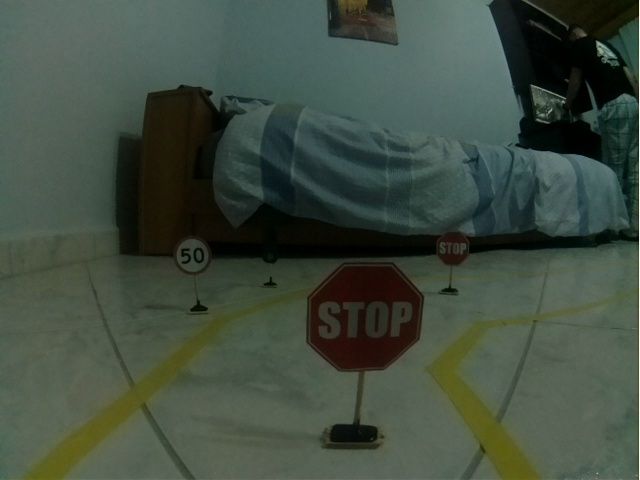Green Traffic Light: (261, 222, 280, 264)
Speed Limit 50: (174, 236, 212, 275)
Stop: (306, 262, 424, 372), (436, 231, 470, 267)
